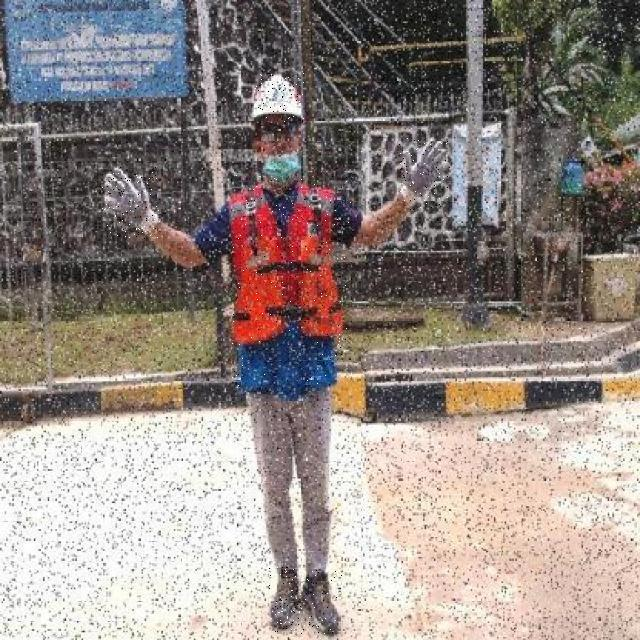boots: (300, 570, 342, 639), (268, 567, 301, 633)
helmet: (253, 73, 304, 122)
vest: (232, 173, 352, 390)
